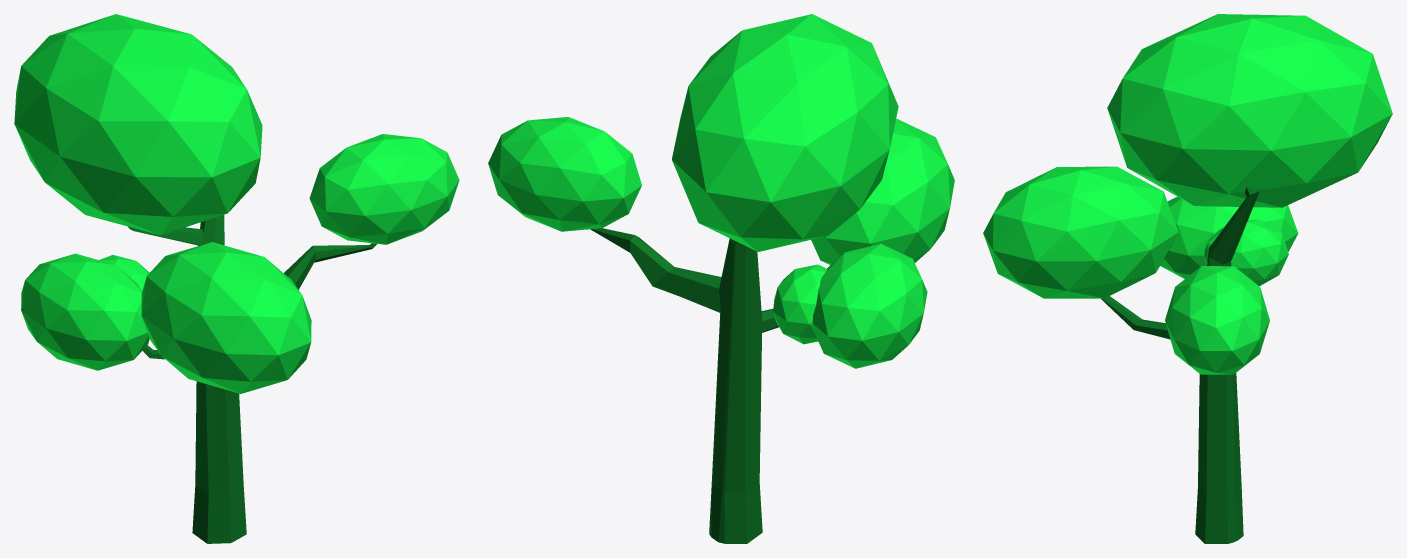
File: tree1.glb
3 views of the same model, side by side, from view 1: azimuth 30°, elevation 25°; view 2: azimuth 150°, elevation 25°; view 3: azimuth 270°, elevation 25° (orthographic). The views are drawn at different scales.
Visible parts, largest first — view 1: Icosphere.002, Icosphere.001, Icosphere, Icosphere.003, Cube, Icosphere.004; view 2: Icosphere.002, Cube, Icosphere, Icosphere.003, Icosphere.001, Icosphere.004; view 3: Icosphere.002, Icosphere.001, Cube, Icosphere, Icosphere.003, Icosphere.004.
Boxes of the visible parts, x1=… form: Icosphere.002: x1=14, y1=14, x2=262, y2=235; Icosphere.001: x1=141, y1=242, x2=311, y2=393; Icosphere: x1=309, y1=134, x2=459, y2=244; Icosphere.003: x1=21, y1=253, x2=149, y2=370; Cube: x1=128, y1=215, x2=376, y2=543; Icosphere.004: x1=99, y1=255, x2=149, y2=290; Icosphere.002: x1=672, y1=14, x2=898, y2=251; Cube: x1=590, y1=228, x2=778, y2=543; Icosphere: x1=488, y1=117, x2=641, y2=231; Icosphere.003: x1=812, y1=244, x2=927, y2=368; Icosphere.001: x1=811, y1=118, x2=954, y2=264; Icosphere.004: x1=773, y1=264, x2=826, y2=344; Icosphere.002: x1=1107, y1=14, x2=1392, y2=207; Icosphere.001: x1=983, y1=166, x2=1178, y2=298; Cube: x1=1101, y1=186, x2=1259, y2=543; Icosphere: x1=1165, y1=266, x2=1269, y2=374; Icosphere.003: x1=1160, y1=196, x2=1298, y2=278; Icosphere.004: x1=1204, y1=220, x2=1288, y2=285.
Size of the model in its own units: 17.61 by 20.95 by 16.04.
Materials: 6 (6 with a texture image).
